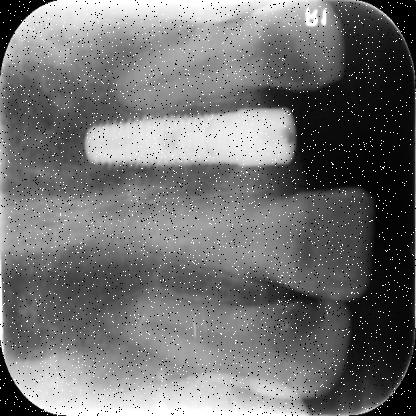Bego: (83, 107, 300, 169)
